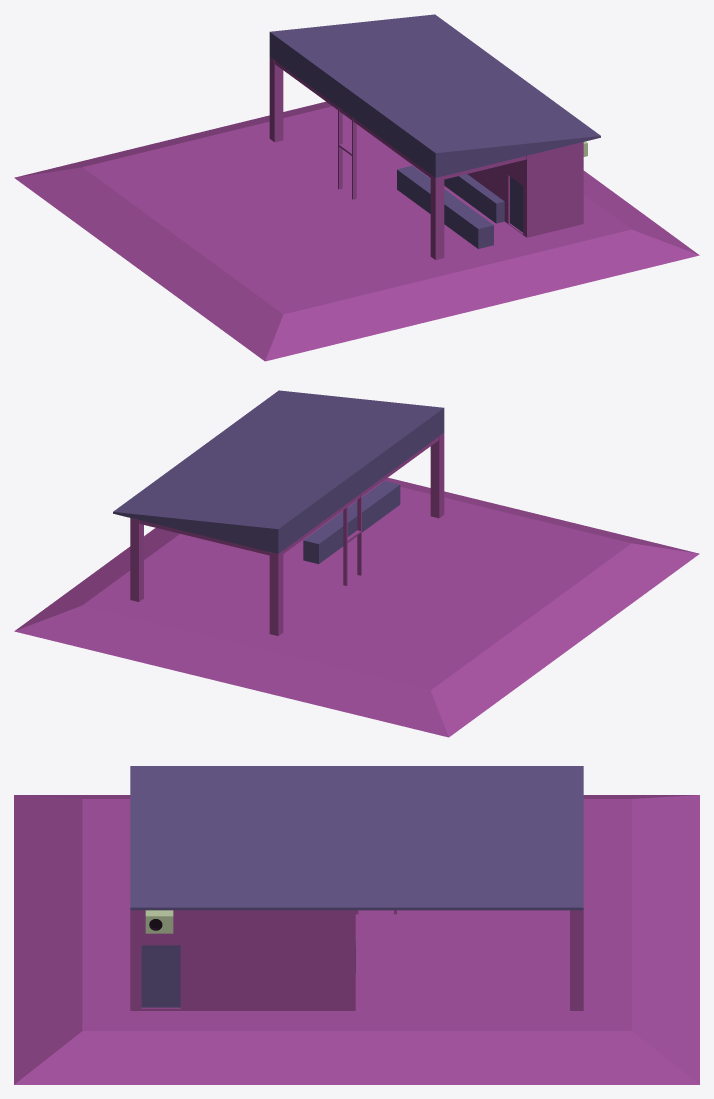
File: FennelCake.glb
The picture shows the model from 3 angles, top to bottom: view 1: azimuth 30°, elevation 25°; view 2: azimuth 150°, elevation 25°; view 3: azimuth 270°, elevation 25°; orthographic projection. The views are drawn at different scales.
Parts seen in each view (by area): view 1: Cube, Cube.015, Cube.003, Cube.006, Cube.007, Cube.001, Cube.002, Cube.009; view 2: Cube, Cube.015, Cube.006, Cube.002, Cube.001, Cube.004, Cube.009, Cube.008; view 3: Cube, Cube.015, Cube.003, Cube.004, Cube.005.
Boxes of the visible parts, x1=… form: Cube: x1=14, y1=101, x2=699, y2=361; Cube.015: x1=269, y1=14, x2=600, y2=177; Cube.003: x1=467, y1=142, x2=583, y2=237; Cube.006: x1=397, y1=165, x2=493, y2=248; Cube.007: x1=444, y1=174, x2=504, y2=223; Cube.001: x1=430, y1=175, x2=444, y2=259; Cube.002: x1=269, y1=57, x2=283, y2=142; Cube.009: x1=275, y1=61, x2=430, y2=177; Cube: x1=14, y1=477, x2=699, y2=737; Cube.015: x1=113, y1=390, x2=444, y2=553; Cube.006: x1=303, y1=481, x2=400, y2=563; Cube.002: x1=269, y1=551, x2=283, y2=635; Cube.001: x1=430, y1=433, x2=444, y2=518; Cube.004: x1=130, y1=518, x2=143, y2=601; Cube.009: x1=283, y1=437, x2=438, y2=553; Cube.008: x1=139, y1=520, x2=269, y2=555; Cube: x1=14, y1=795, x2=699, y2=1084; Cube.015: x1=130, y1=766, x2=583, y2=910; Cube.003: x1=130, y1=910, x2=355, y2=1010; Cube.004: x1=570, y1=910, x2=583, y2=1010; Cube.005: x1=145, y1=910, x2=173, y2=933.
Size of the model in its own units: 24.97 by 6.87 by 24.97.
